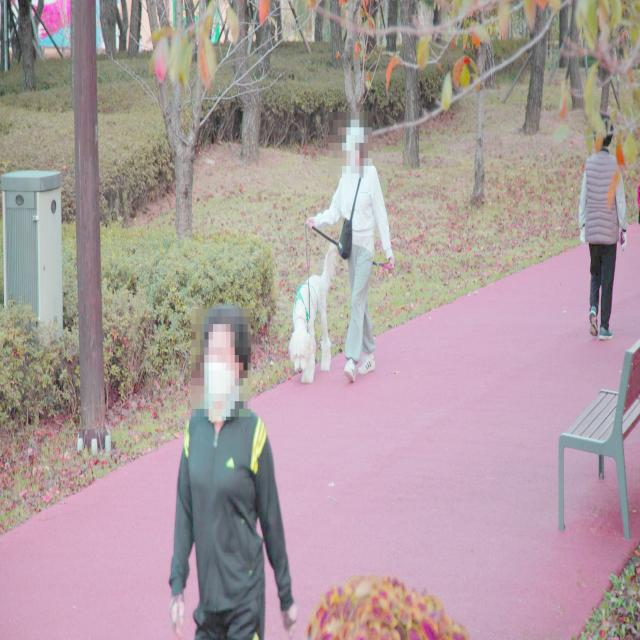Leashed_Dog: (288, 218, 373, 384)
